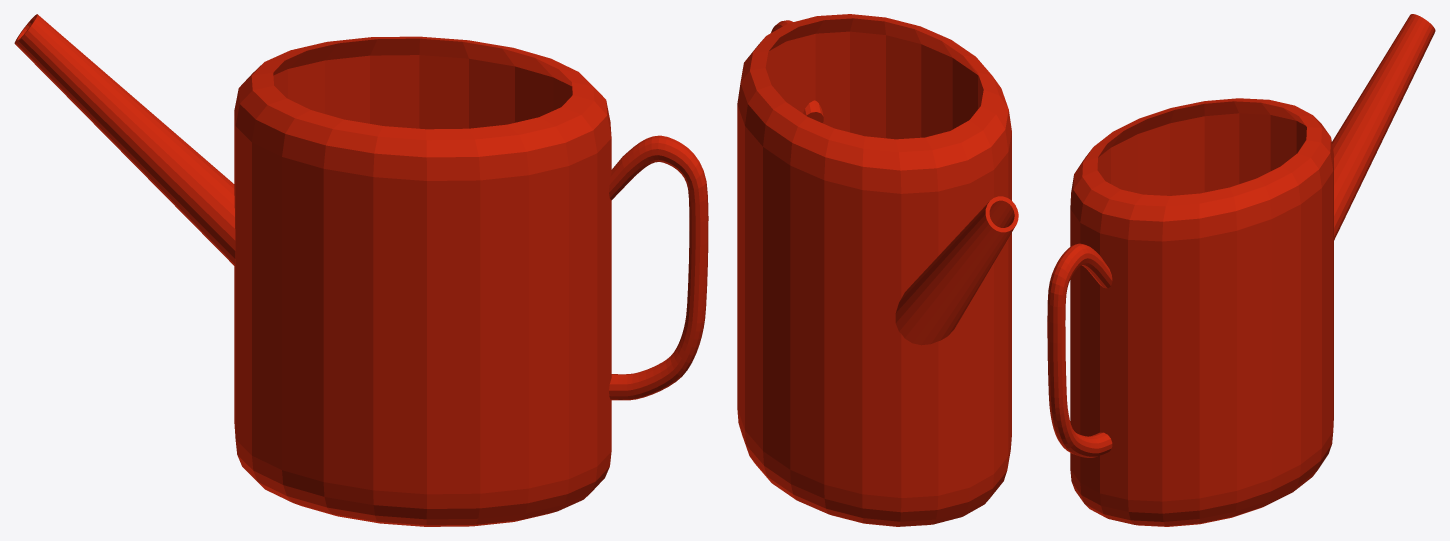
Rendered from Watering can.obj.
The picture shows the model from 3 angles, left to right: view 1: azimuth 30°, elevation 25°; view 2: azimuth 150°, elevation 25°; view 3: azimuth 270°, elevation 25°; orthographic projection. The views are drawn at different scales.
Parts seen in each view (by area): view 1: Cylinder001, Cylinder002, Line002; view 2: Cylinder001, Cylinder002, Line002; view 3: Cylinder001, Cylinder002, Line002.
Boxes of the visible parts, box(x1,y1,x2,y2) form: Cylinder001: box(234, 36, 611, 526); Cylinder002: box(14, 14, 235, 265); Line002: box(609, 135, 708, 400); Cylinder001: box(737, 14, 1011, 526); Cylinder002: box(895, 196, 1018, 345); Line002: box(771, 20, 823, 122); Cylinder001: box(1070, 98, 1333, 526); Cylinder002: box(1332, 14, 1435, 240); Line002: box(1047, 243, 1112, 457).
Bounding box in the file's own units: 482042 × 419865 × 412090.
